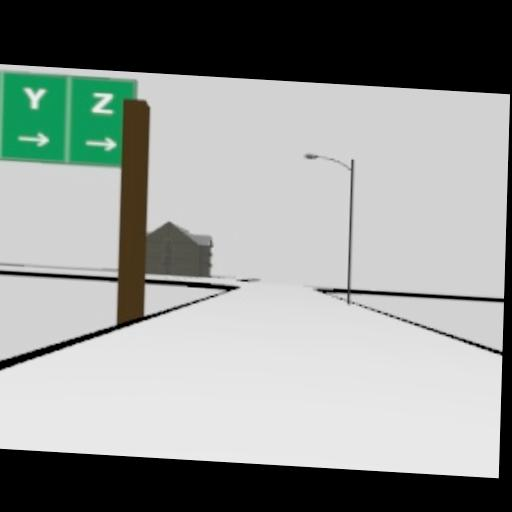Right: (17, 131, 49, 147), (85, 135, 117, 151)
Y: (21, 85, 47, 109)
Z: (89, 91, 115, 113)
